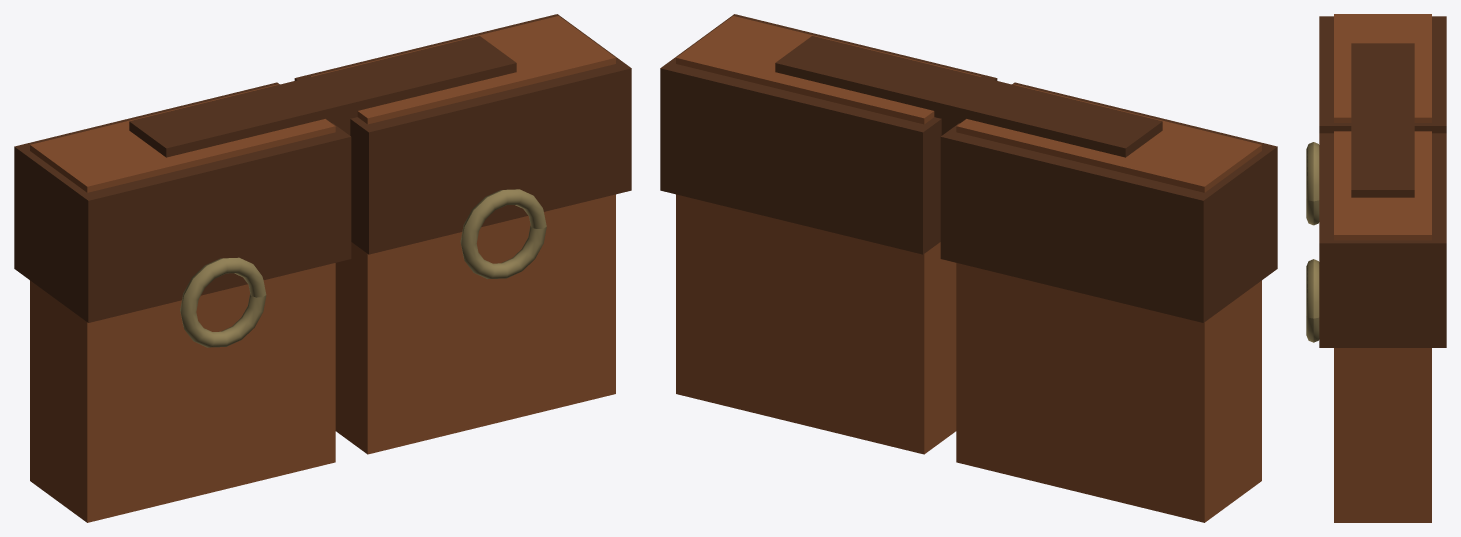
The picture shows the model from 3 angles, left to right: view 1: azimuth 30°, elevation 25°; view 2: azimuth 150°, elevation 25°; view 3: azimuth 270°, elevation 25°; orthographic projection. The views are drawn at different scales.
Visible parts, largest first — view 1: OBJ-016 — DEMO NON_VALIDE; view 2: OBJ-016 — DEMO NON_VALIDE; view 3: OBJ-016 — DEMO NON_VALIDE.
Boxes of the visible parts, left/top/right/bottom form: OBJ-016 — DEMO NON_VALIDE: left=14, top=14, right=631, bottom=522; OBJ-016 — DEMO NON_VALIDE: left=660, top=14, right=1277, bottom=522; OBJ-016 — DEMO NON_VALIDE: left=1306, top=14, right=1446, bottom=522.
Size of the model in its own units: 2 by 1.22 by 0.5215.
